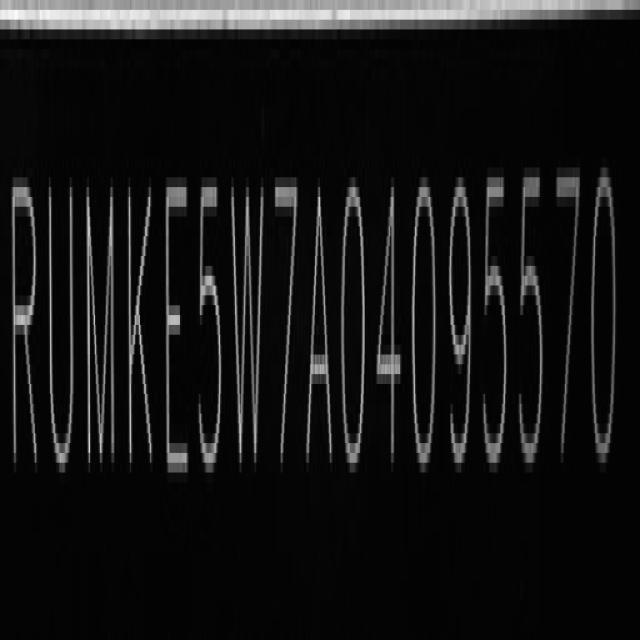0: (412, 171, 441, 484), (592, 164, 621, 474), (342, 176, 368, 487)
4: (377, 168, 405, 484)
5: (517, 161, 546, 481), (197, 167, 224, 492), (483, 164, 510, 478)
7: (273, 161, 300, 485), (558, 153, 583, 479)
9: (448, 172, 476, 482)
A: (305, 164, 334, 485)
E: (162, 146, 192, 503)
K: (122, 156, 156, 478)
M: (83, 171, 120, 488)
R: (10, 171, 41, 490)
U: (46, 161, 78, 485)
W: (230, 166, 266, 490)
